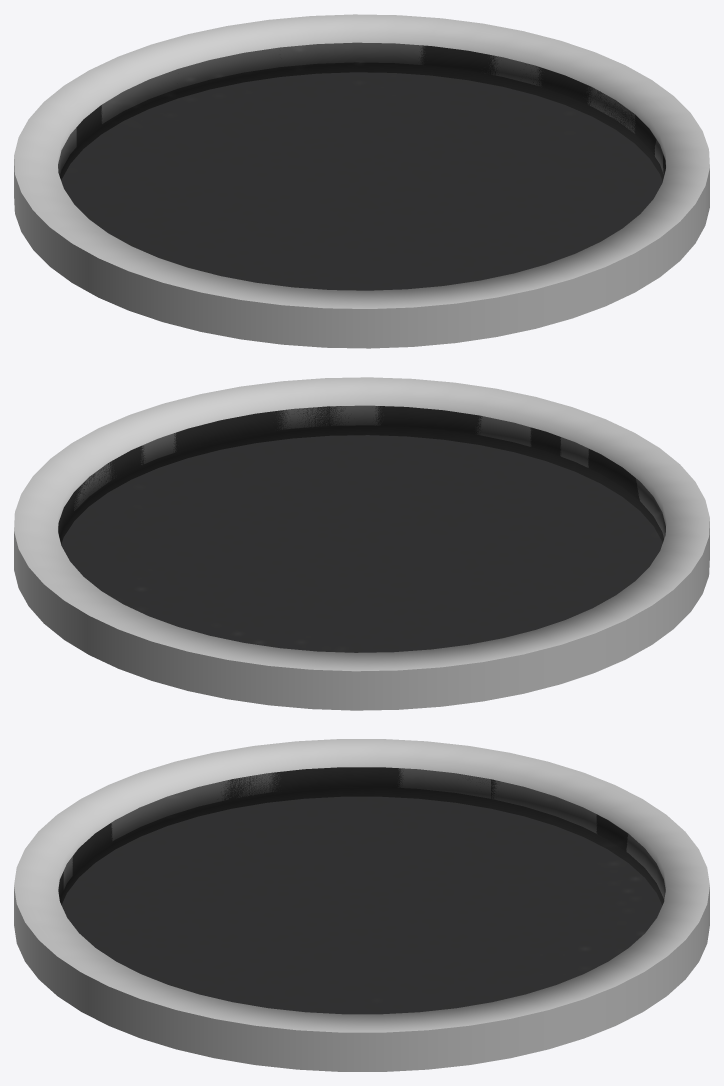
The model's file is glass_1x1_circle.fbx.
3 renders of one model, top to bottom at view 1: azimuth 30°, elevation 25°; view 2: azimuth 150°, elevation 25°; view 3: azimuth 270°, elevation 25°, orthographic.
Visible parts, largest first — view 1: glass_1x1_circle; view 2: glass_1x1_circle; view 3: glass_1x1_circle.
Part boxes in pixels (bbox=[...]): glass_1x1_circle: bbox=[14, 14, 709, 348]; glass_1x1_circle: bbox=[14, 377, 709, 710]; glass_1x1_circle: bbox=[14, 739, 709, 1071].
Bounding box in the file's own units: 39.98 × 2.5 × 40.05.
